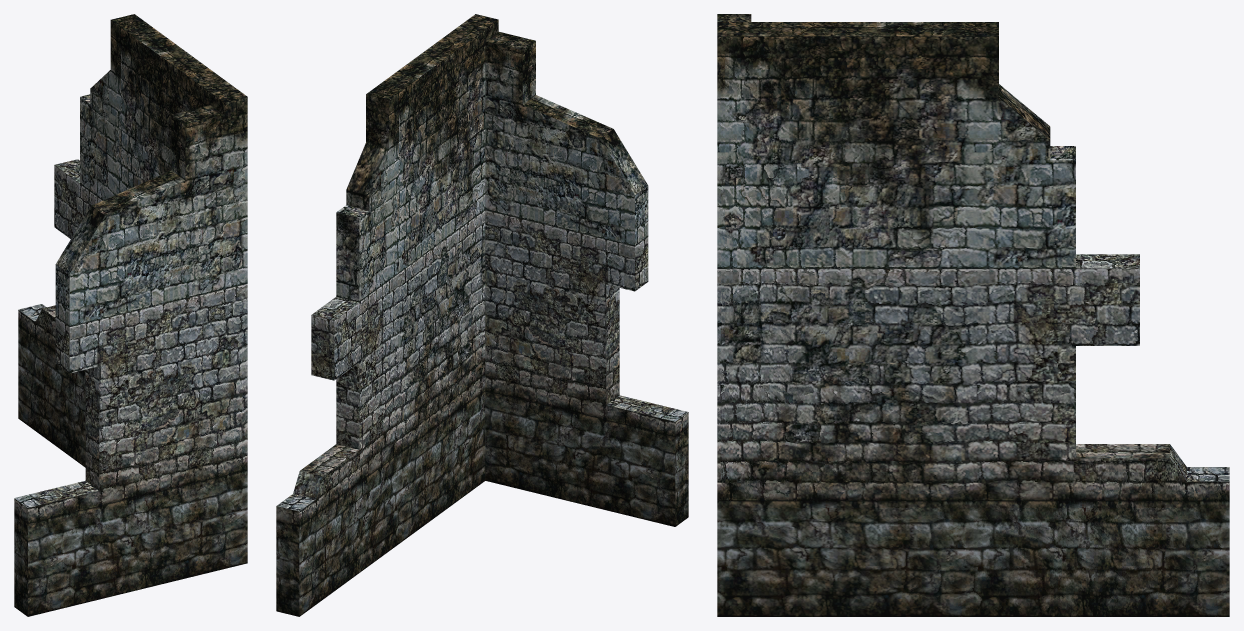
3 renders of one model, left to right at view 1: azimuth 30°, elevation 25°; view 2: azimuth 150°, elevation 25°; view 3: azimuth 270°, elevation 25°, orthographic. The views are drawn at different scales.
Parts seen in each view (by area): view 1: hr_hy1x2-col; view 2: hr_hy1x2-col; view 3: hr_hy1x2-col.
Boxes of the visible parts, x1,y1,x2,y2 form: hr_hy1x2-col: (14, 14, 247, 616); hr_hy1x2-col: (276, 14, 688, 616); hr_hy1x2-col: (717, 14, 1229, 616).
Bounding box in the file's own units: 3.7 × 7.5 × 6.
Materials: 5 (5 with a texture image).
